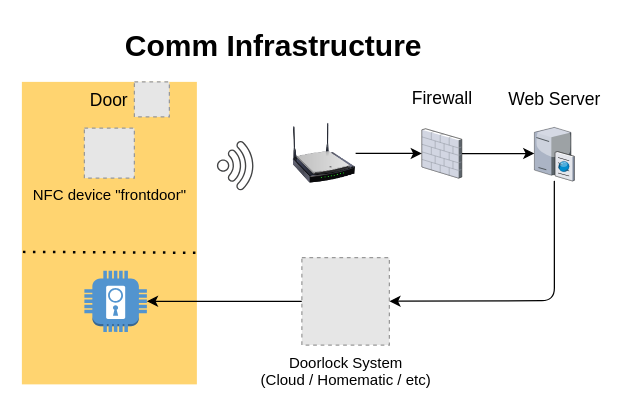
The diagram is 623 pixels wide and 411 high, and some of its shapes have lost their labels. Grey dashed boxes stand in for pictures. Here are the shapes that lost their labels. From the top down, the centre of each, then its label:
At point (323, 153): "WiFi".
At point (115, 300): "Third party doorlock".
